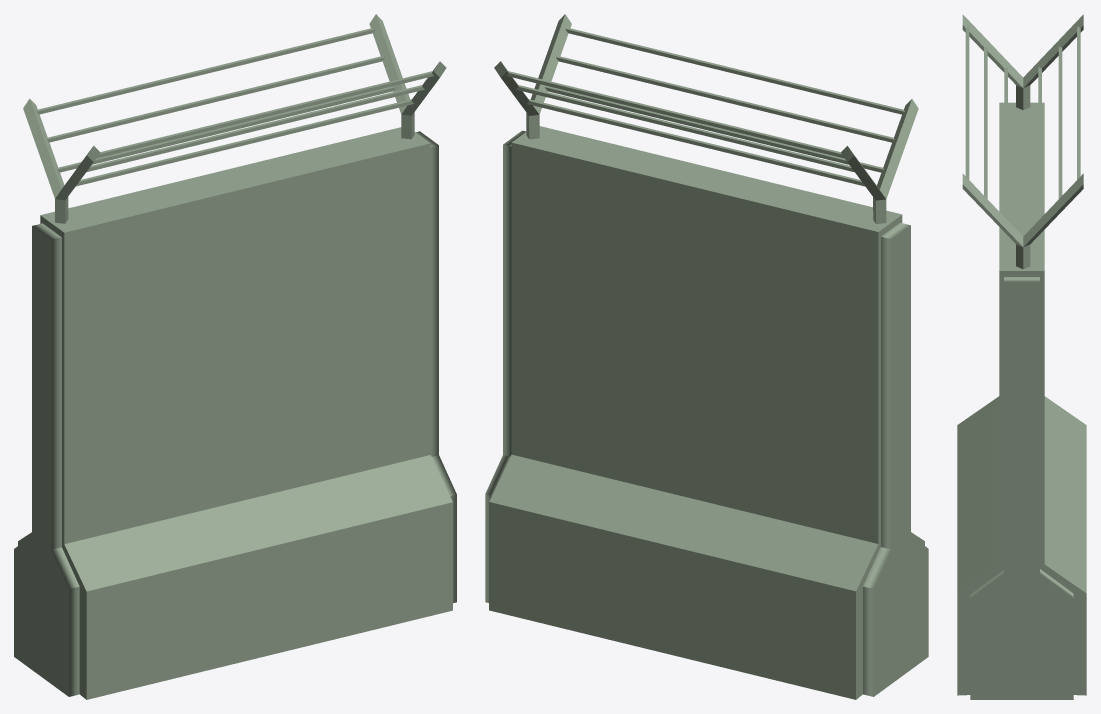
File: wall.fbx
3 views of the same model, side by side, from view 1: azimuth 30°, elevation 25°; view 2: azimuth 150°, elevation 25°; view 3: azimuth 270°, elevation 25° (orthographic). The views are drawn at different scales.
Visible parts, largest first — view 1: wall_02; view 2: wall_02; view 3: wall_02.
Part boxes in pixels (x1,y1,x2,y2): wall_02: (14,14,456,699); wall_02: (485,14,928,699); wall_02: (957,14,1086,699).
Size of the model in its own units: 5 by 6.77 by 1.53.
